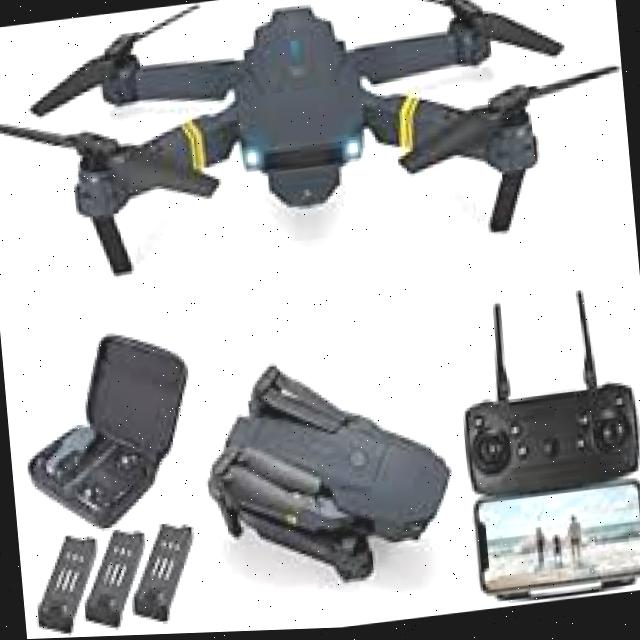drone: (0, 0, 631, 332)
